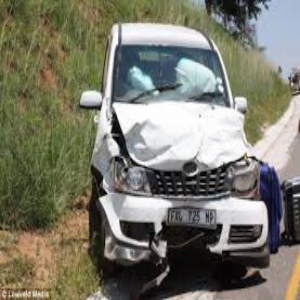bonnet: (112, 105, 246, 168)
bumper: (123, 233, 233, 272)
